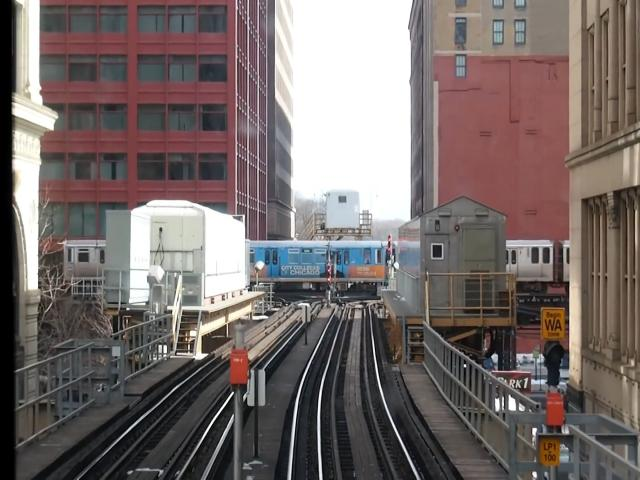signal light: (327, 265, 334, 296), (388, 235, 393, 263)
